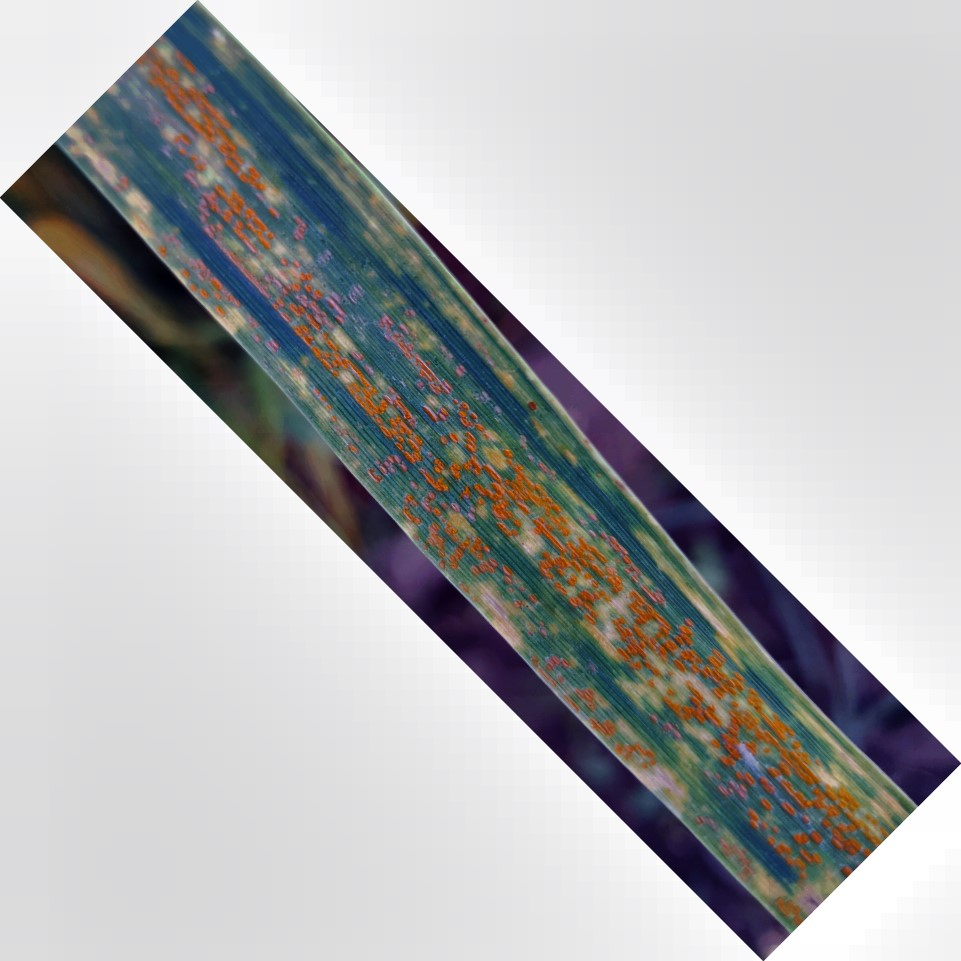Leaf Rust: (216, 225, 856, 863)
